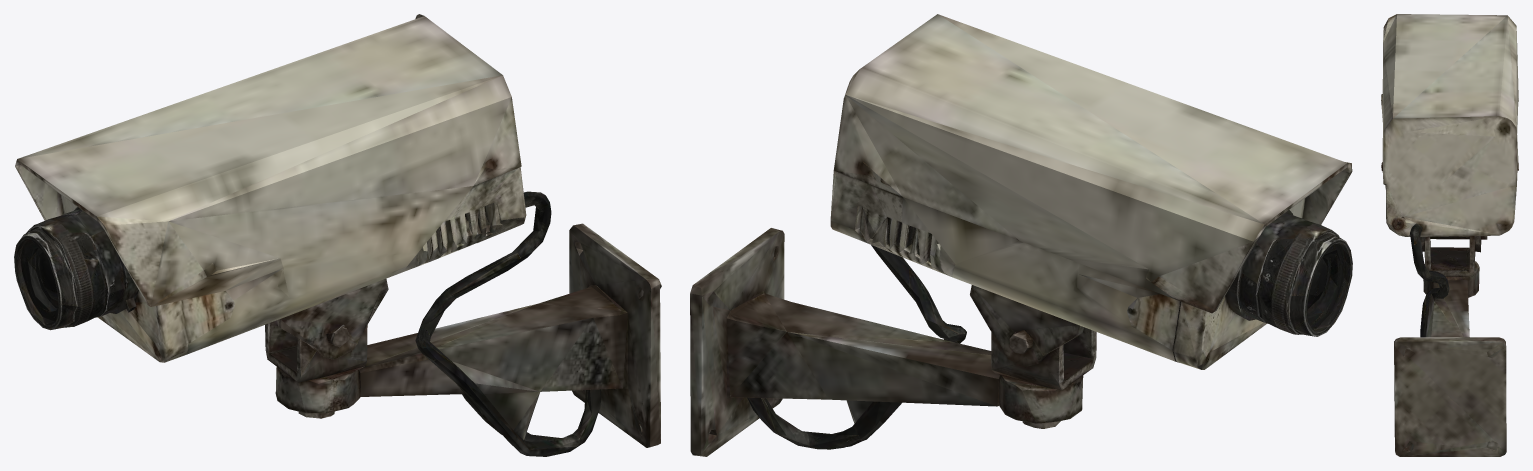
File: cctv.glb
3 renders of one model, left to right at view 1: azimuth 30°, elevation 25°; view 2: azimuth 150°, elevation 25°; view 3: azimuth 270°, elevation 25°, orthographic. The views are drawn at different scales.
Visible parts, largest first — view 1: Mesh_0; view 2: Mesh_0; view 3: Mesh_0.
Boxes of the visible parts, x1=… form: Mesh_0: x1=14, y1=14, x2=661, y2=456; Mesh_0: x1=690, y1=14, x2=1352, y2=456; Mesh_0: x1=1381, y1=14, x2=1518, y2=456.
Size of the model in its own units: 1.9 by 1.32 by 0.5602.
1 material, 1 textured.
